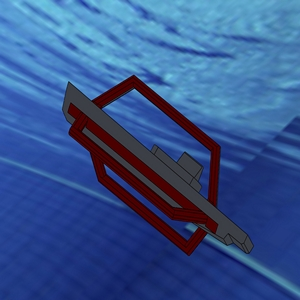submarine: (43, 46, 267, 268)
